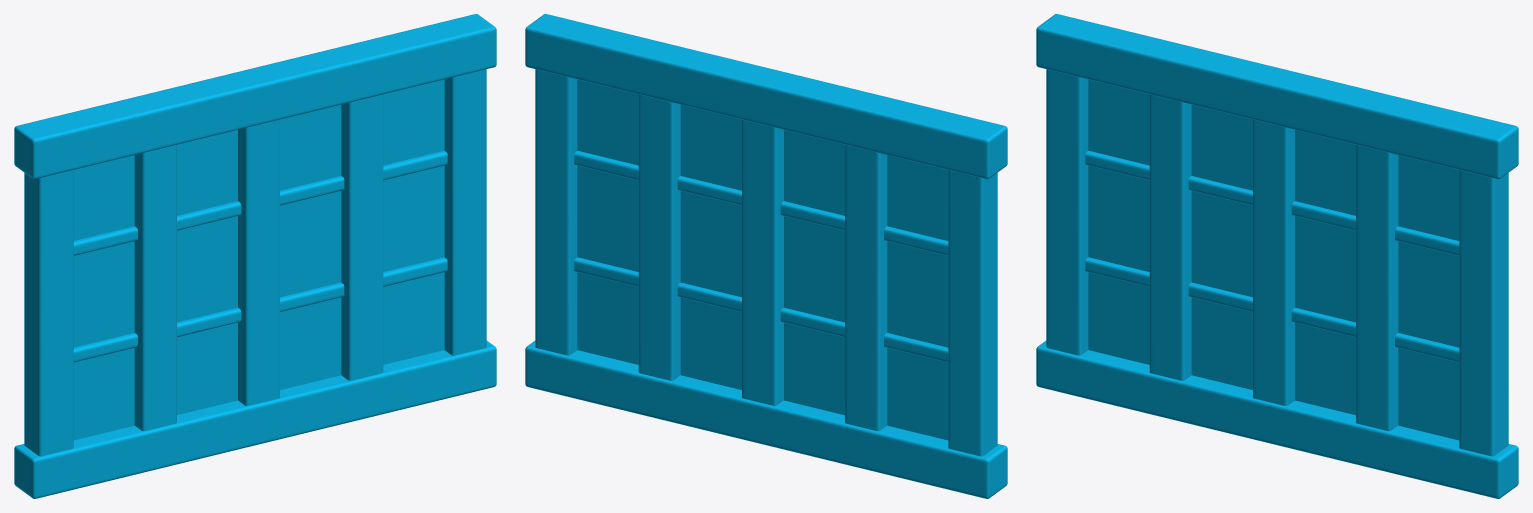
File: SM_Wood_Window_02.fbx
The picture shows the model from 3 angles, left to right: view 1: azimuth 30°, elevation 25°; view 2: azimuth 150°, elevation 25°; view 3: azimuth 330°, elevation 25°; orthographic projection.
Visible parts, largest first — view 1: SM_Wood_Window_02; view 2: SM_Wood_Window_02; view 3: SM_Wood_Window_02.
Boxes of the visible parts, bbox=[...] form: SM_Wood_Window_02: bbox=[14, 14, 496, 498]; SM_Wood_Window_02: bbox=[525, 14, 1007, 498]; SM_Wood_Window_02: bbox=[1036, 14, 1518, 498].
Size of the model in its own units: 1.55 by 1.15 by 0.1164.
